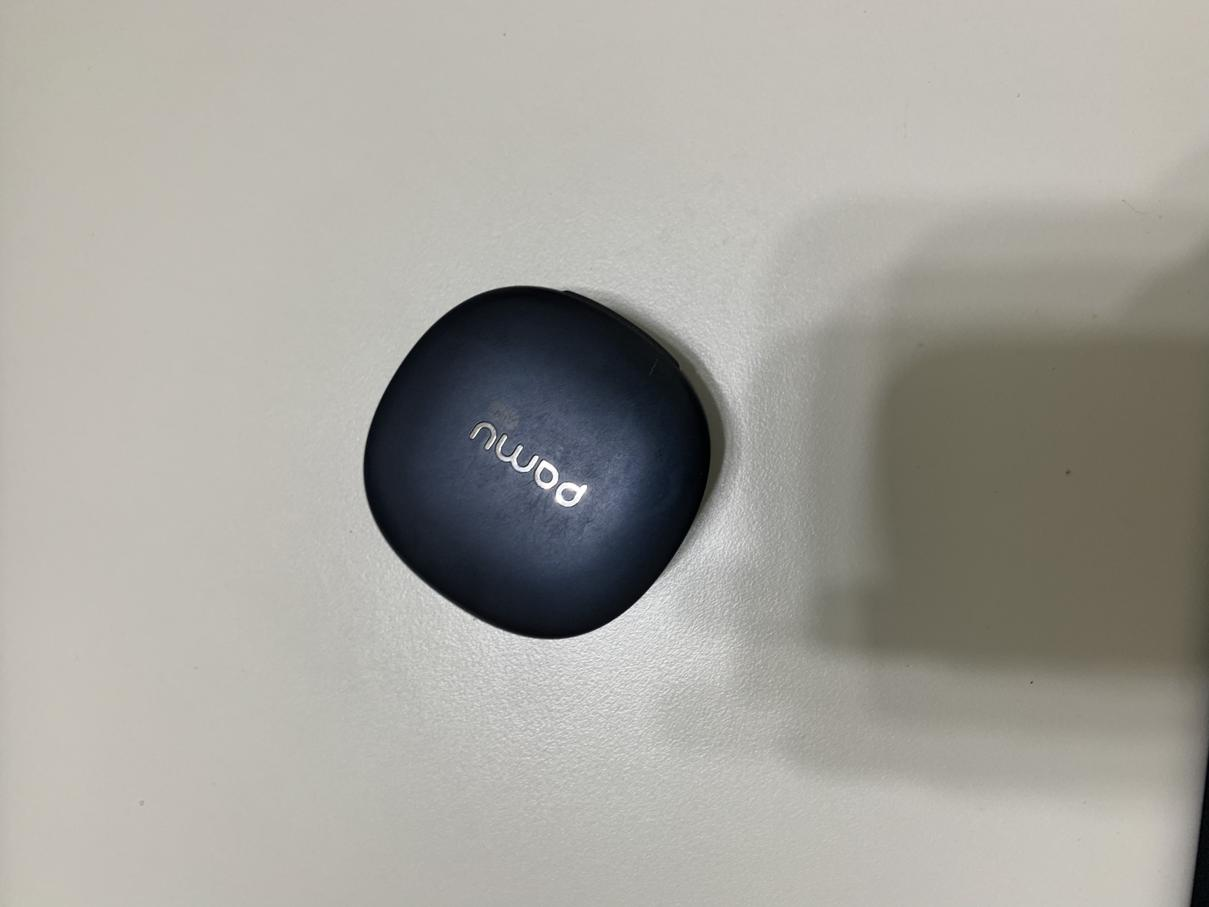pami: (352, 262, 715, 641)
